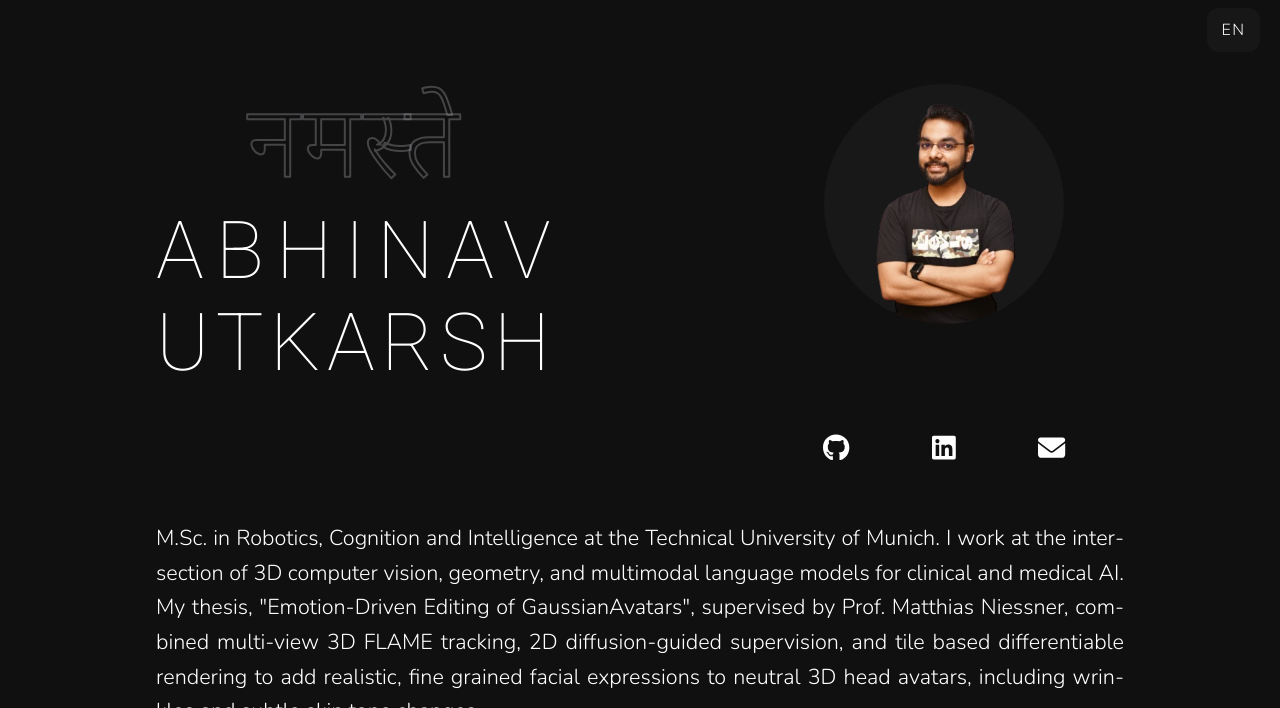
Scenario: German Impressum is reachable from the German page
What coordinates should you click on to do the following:
click the button with aria-label "Deutsch"
I would click on:
 (1234, 30)
Its box is [1207, 8, 1260, 52].
Wait 400 ms
(page scrolled)
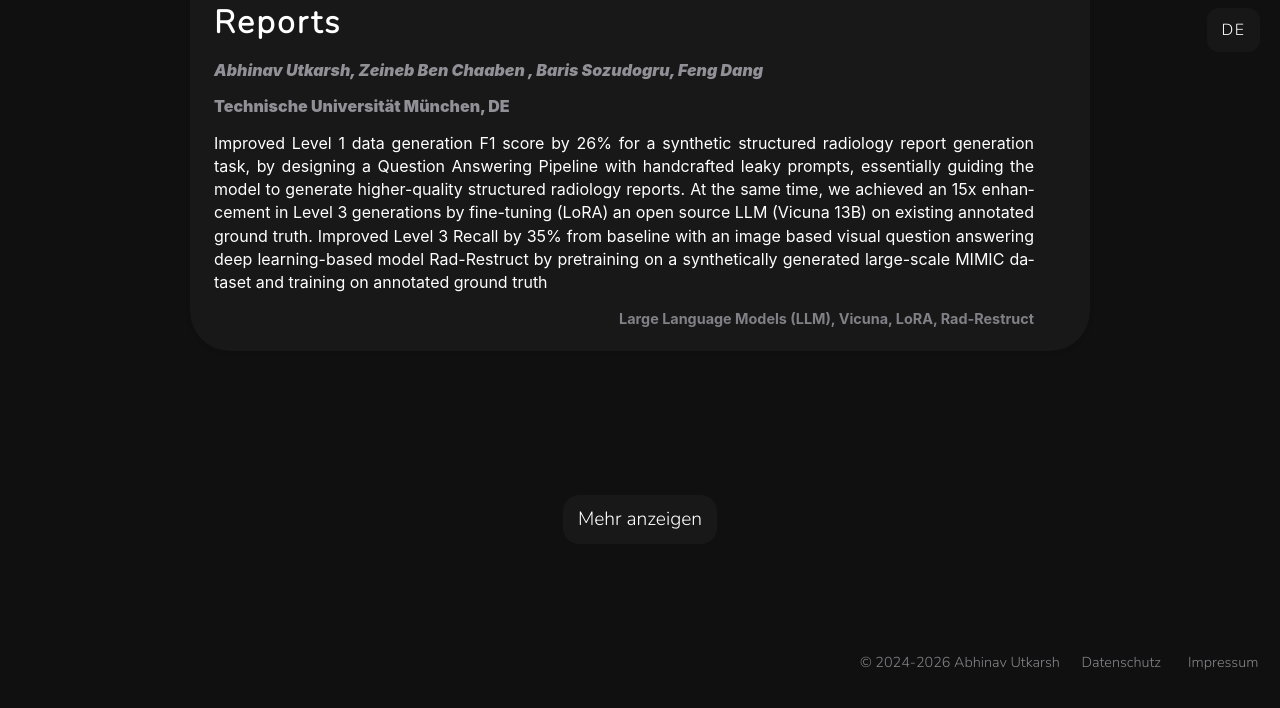
What coordinates should you click on to do the following:
click the link "Impressum"
I would click on:
 (1223, 662)
Its box is [1188, 652, 1258, 672].
Wait 400 ms
(page scrolled)
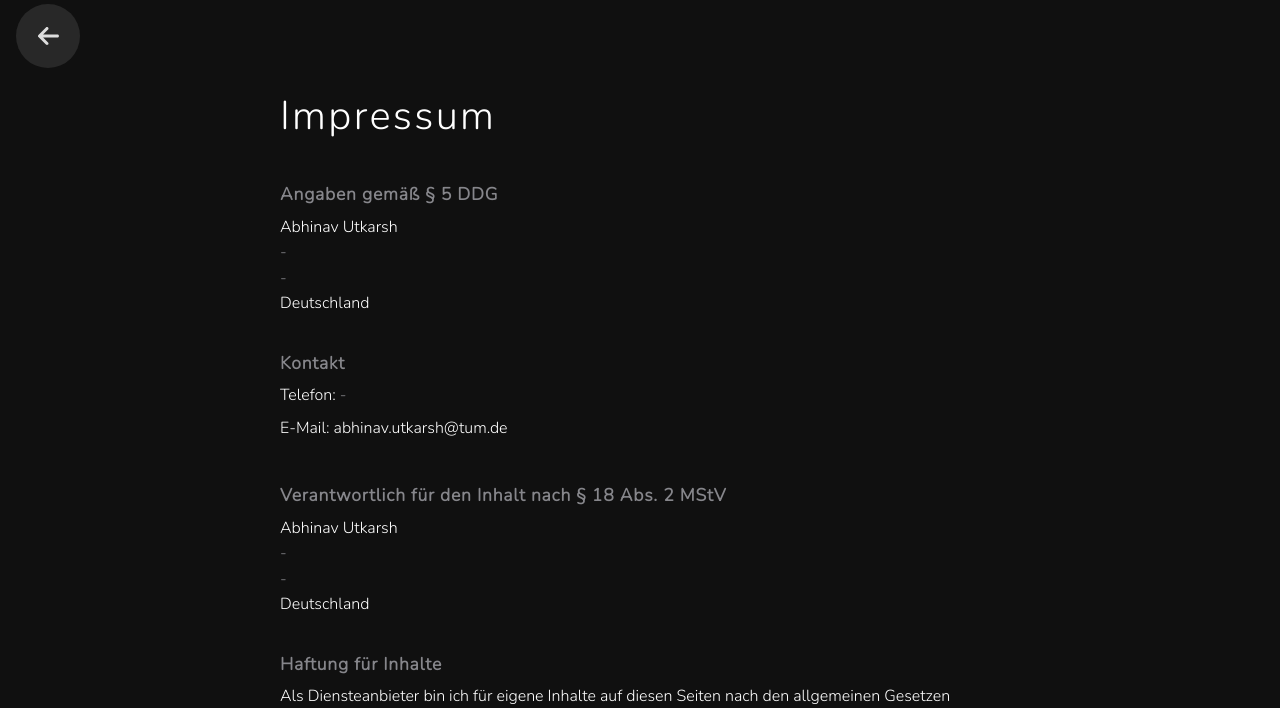
expect the heading "Angaben gemäß § 5 DDG" is shown: met, box [280, 182, 498, 206]
